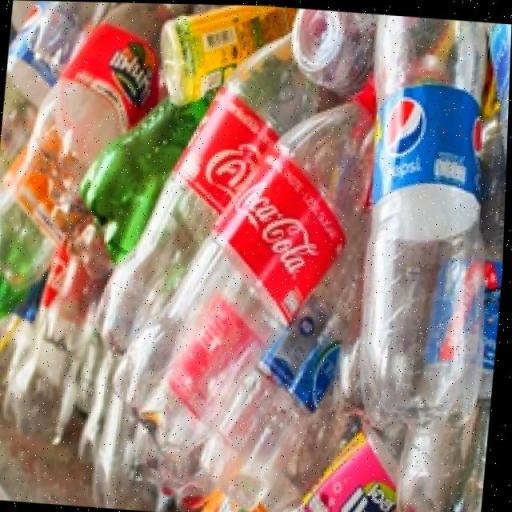plastic: (98, 64, 432, 466), (77, 16, 344, 364), (334, 12, 512, 438), (0, 2, 208, 293)
